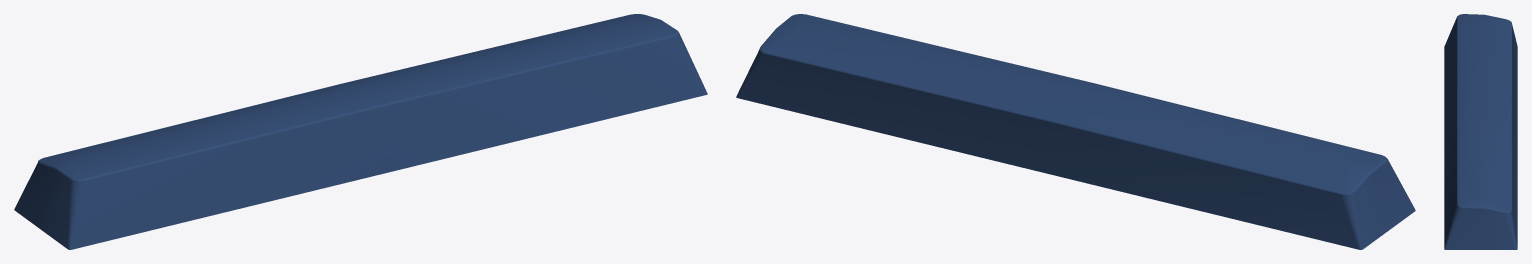
File: cherryspacebar.glb
The picture shows the model from 3 angles, left to right: view 1: azimuth 30°, elevation 25°; view 2: azimuth 150°, elevation 25°; view 3: azimuth 270°, elevation 25°; orthographic projection. The views are drawn at different scales.
Parts seen in each view (by area): view 1: Space_6.25U_Mesh; view 2: Space_6.25U_Mesh; view 3: Space_6.25U_Mesh.
Boxes of the visible parts, bbox=[...] form: Space_6.25U_Mesh: bbox=[14, 14, 707, 249]; Space_6.25U_Mesh: bbox=[736, 14, 1415, 249]; Space_6.25U_Mesh: bbox=[1444, 14, 1517, 249].
Bounding box in the file's own units: 0.1185 × 0.011 × 0.018.
